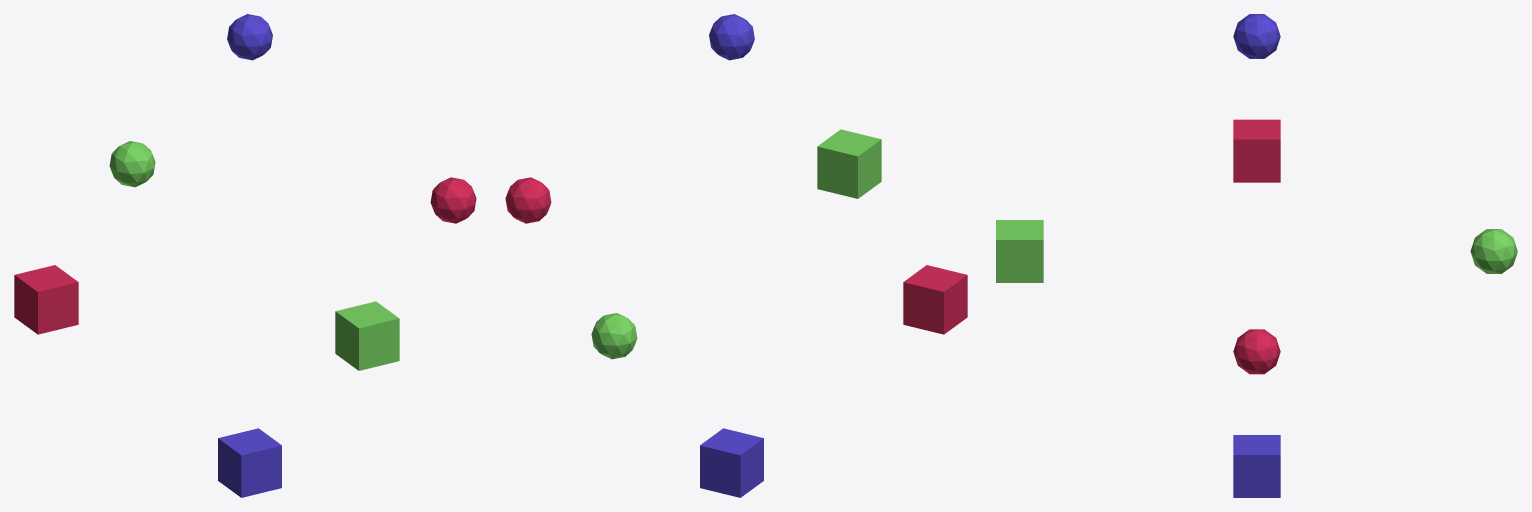
Rendered from CoordinatesTest-7bit.dae.
3 renders of one model, left to right at view 1: azimuth 30°, elevation 25°; view 2: azimuth 150°, elevation 25°; view 3: azimuth 270°, elevation 25°, orthographic.
Parts seen in each view (by area): view 1: YMinCube, XMinCube, ZMinCube, ZPlusSphere, YPlusSphere, XPlusSphere; view 2: YMinCube, XMinCube, ZMinCube, ZPlusSphere, YPlusSphere, XPlusSphere; view 3: XMinCube, ZMinCube, YMinCube, XPlusSphere, YPlusSphere, ZPlusSphere.
Boxes of the visible parts, x1=… form: YMinCube: x1=335, y1=301, x2=399, y2=370; XMinCube: x1=14, y1=265, x2=78, y2=334; ZMinCube: x1=218, y1=428, x2=281, y2=497; ZPlusSphere: x1=227, y1=14, x2=272, y2=60; YPlusSphere: x1=109, y1=141, x2=155, y2=187; XPlusSphere: x1=430, y1=177, x2=476, y2=223; YMinCube: x1=817, y1=129, x2=881, y2=198; XMinCube: x1=903, y1=265, x2=967, y2=334; ZMinCube: x1=700, y1=428, x2=763, y2=497; ZPlusSphere: x1=709, y1=14, x2=754, y2=60; YPlusSphere: x1=591, y1=313, x2=637, y2=359; XPlusSphere: x1=505, y1=177, x2=551, y2=223; XMinCube: x1=1233, y1=119, x2=1280, y2=182; ZMinCube: x1=1233, y1=435, x2=1280, y2=497; YMinCube: x1=996, y1=220, x2=1043, y2=282; XPlusSphere: x1=1233, y1=329, x2=1280, y2=374; YPlusSphere: x1=1470, y1=229, x2=1517, y2=273; ZPlusSphere: x1=1233, y1=14, x2=1280, y2=58.
Size of the model in its own units: 21.95 by 22 by 22.
